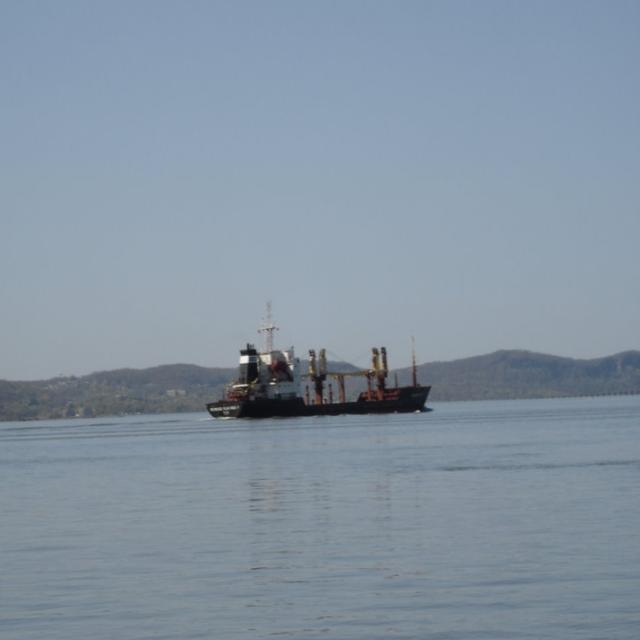cargoship: (210, 324, 434, 418)
